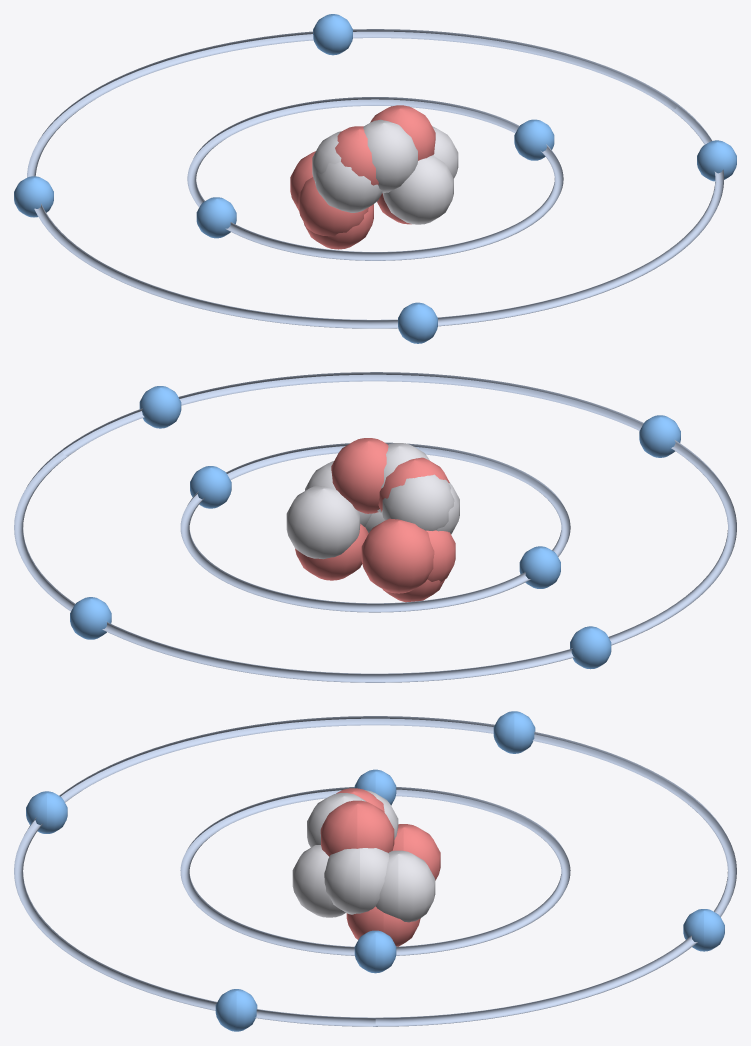
The model's file is atom.glb.
3 views of the same model, one above another, from view 1: azimuth 30°, elevation 25°; view 2: azimuth 150°, elevation 25°; view 3: azimuth 270°, elevation 25° (orthographic). The views are drawn at different scales.
Bounding box in the file's own units: 0.3039 × 0.0636 × 0.304.
